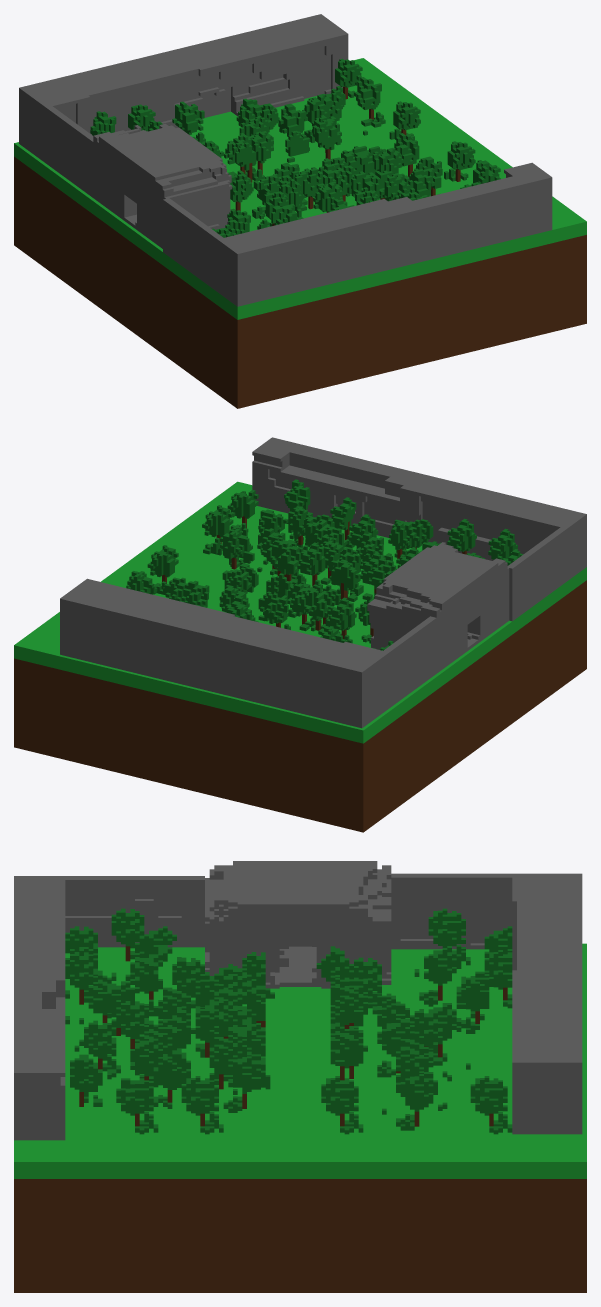
File: Place1.obj
The picture shows the model from 3 angles, top to bottom: view 1: azimuth 30°, elevation 25°; view 2: azimuth 150°, elevation 25°; view 3: azimuth 270°, elevation 25°; orthographic projection. The views are drawn at different scales.
Size of the model in its own units: 11.1 by 5.1 by 12.3.
Materials: 1 (1 with a texture image).
